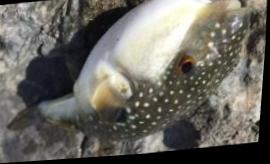fish: (10, 0, 256, 142)
